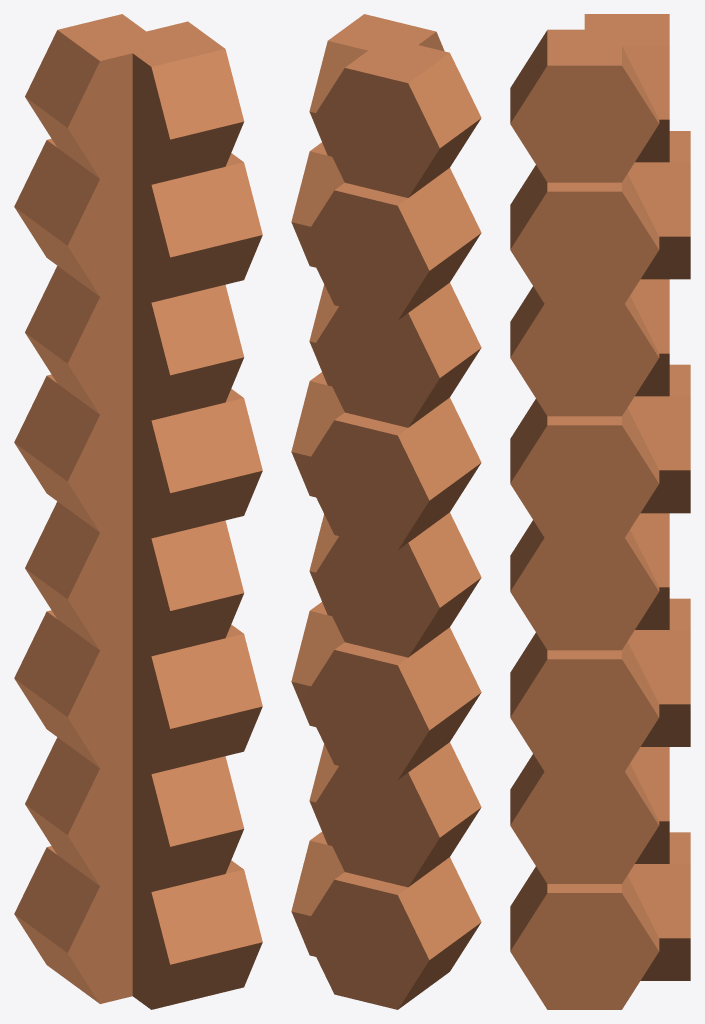
File: cabinCorner.fbx
3 views of the same model, side by side, from view 1: azimuth 30°, elevation 25°; view 2: azimuth 150°, elevation 25°; view 3: azimuth 270°, elevation 25° (orthographic). The views are drawn at different scales.
Parts seen in each view (by area): view 1: cabinCorner; view 2: cabinCorner; view 3: cabinCorner.
Part boxes in pixels (x1,y1,x2,y2): cabinCorner: (14,14,262,1009); cabinCorner: (291,14,481,1009); cabinCorner: (510,14,690,1009).
Bounding box in the file's own units: 1.7 × 9.73 × 1.7.
